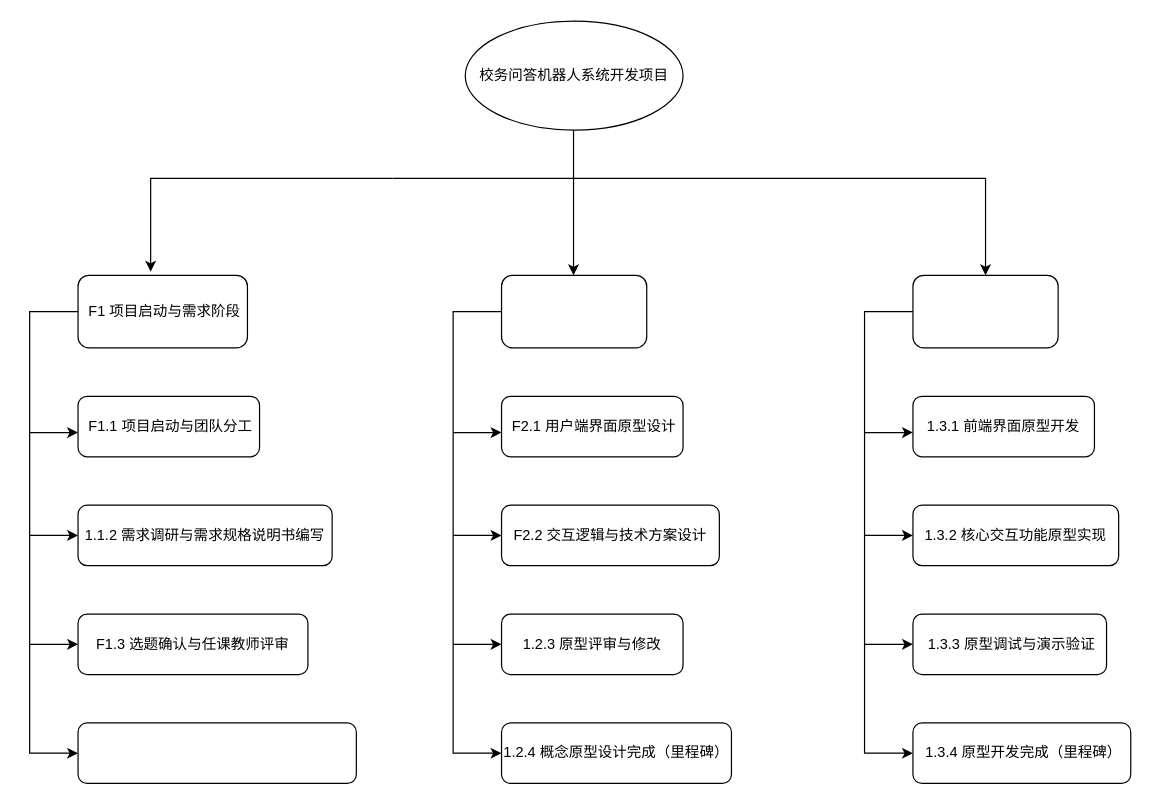
Some shapes in this 1152 by 805 pixel diagram are drawn without their labels. Each missing label, with the centre of its shape:
"1.3 原型开发阶段" goes at [985,311].
"F1.4 项目启动与需求确认完成（里程碑）" goes at [216,752].
"F2 系统设计阶段" goes at [573,311].
